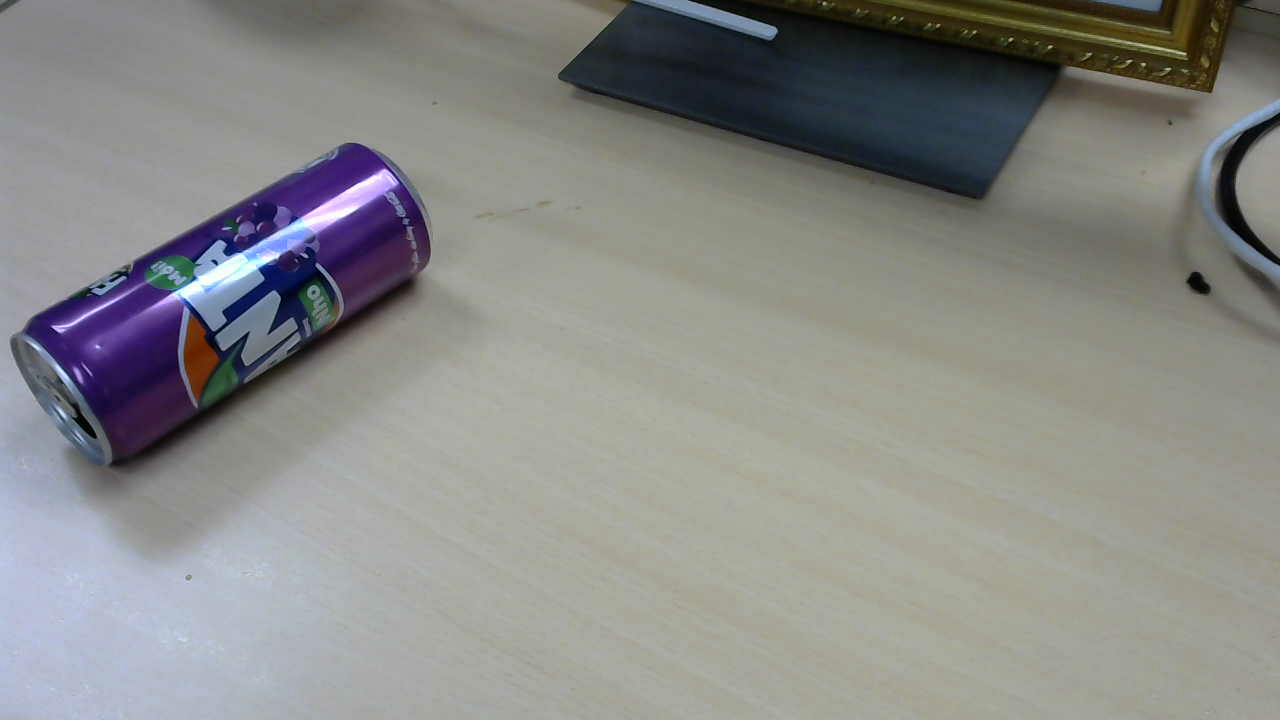Fanta: (15, 147, 437, 472)
